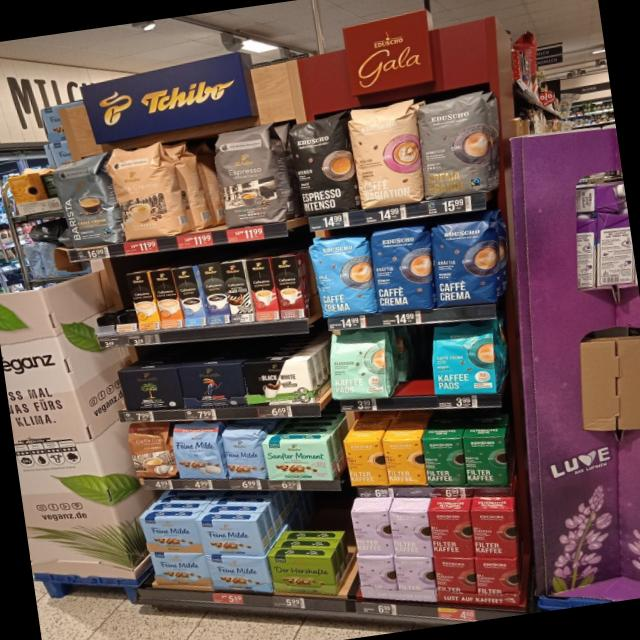BM Gemahlen: (118, 362, 184, 417)
BW Bohne: (242, 353, 316, 413)
Barista CC: (51, 152, 119, 250)
CC Mild: (105, 140, 181, 243)
CC Vollmundig: (126, 416, 178, 484)
Empty Shelf: (104, 275, 137, 324), (84, 274, 115, 326)
Espresso Aromatisch: (212, 124, 288, 231)
FM 36 Pads: (169, 416, 226, 486)
FM Bohne: (220, 422, 266, 482)
FM Gemahlen: (206, 554, 273, 594), (197, 518, 265, 557), (138, 516, 205, 554), (150, 551, 213, 589)
Herzhatfe Mundig: (267, 554, 337, 596)
LG Gemahlen: (176, 356, 248, 414)
SM Gemahlen: (261, 432, 336, 491)
Simo CCMild bigpack: (126, 271, 162, 329)
Simo CCVollmundig bigpack: (150, 268, 185, 328)
Simo Es Brazil: (246, 257, 280, 321)
Simo Es Caramel: (272, 255, 306, 319)
Simo Es Elegant: (221, 261, 255, 323)
Simo Es Kraft: (199, 262, 232, 322)
Simo Es Vanilla: (172, 266, 207, 327)
